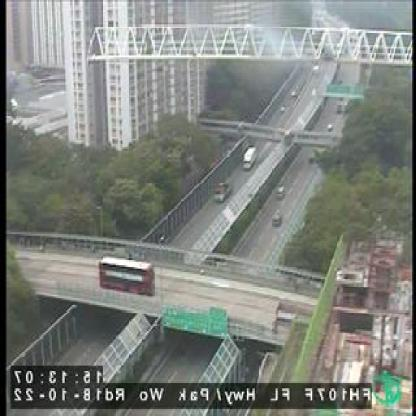Bus: (98, 255, 157, 298)
Car: (271, 209, 282, 227), (275, 184, 286, 199)
Truck: (213, 180, 231, 204), (242, 147, 257, 171)
